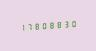eight: (49, 19, 56, 30), (33, 21, 40, 31), (57, 19, 64, 29)
one: (17, 22, 24, 32)
seven: (25, 21, 32, 32)
three: (65, 18, 72, 29)
zero: (41, 20, 48, 30), (73, 18, 80, 28)
